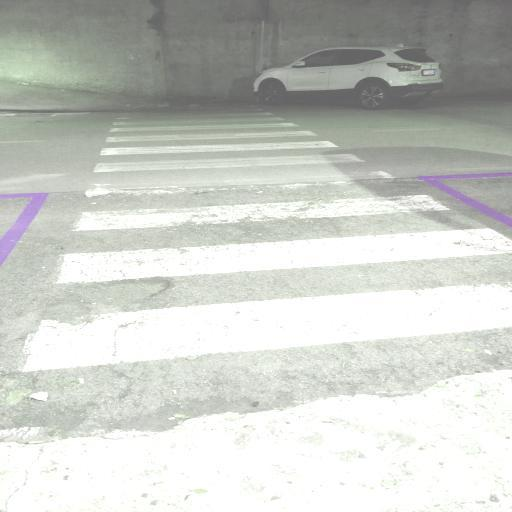crosswalk: (52, 190, 511, 289), (98, 128, 346, 158)
